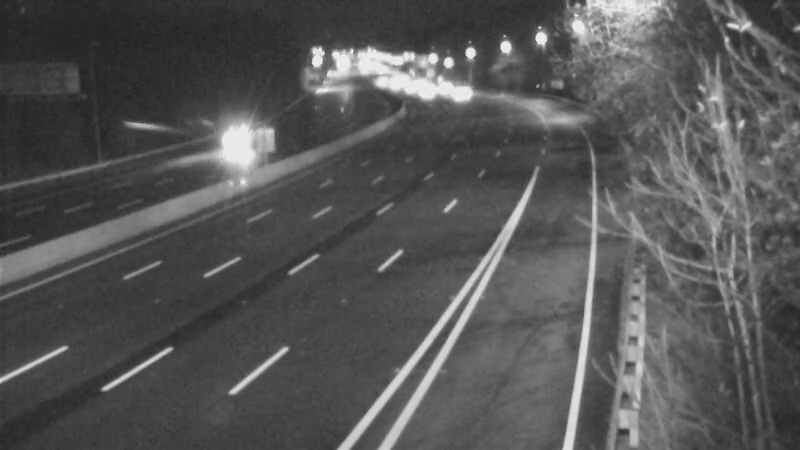vehicle: (211, 114, 261, 164)
